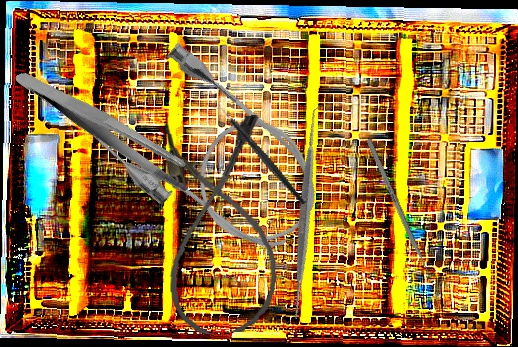Cannula: (82, 34, 341, 281), (158, 114, 281, 337)
Chopper: (209, 87, 308, 224)
Dressing Forceps: (13, 32, 200, 225)
Pusher: (365, 138, 436, 286)
Spatula Surgical: (192, 101, 419, 327)
